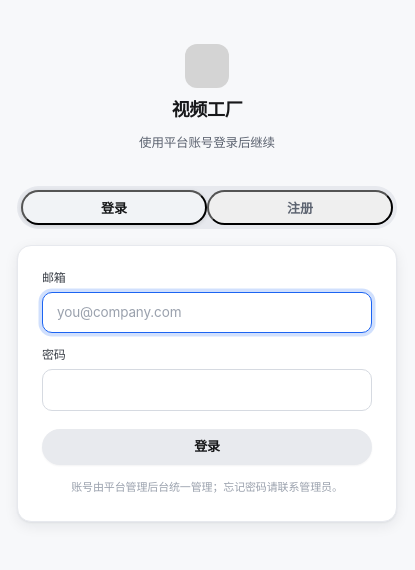
Scenario: LoginRoute › 登录失败展示后端错误信息并停留在登录页
Type "ops@company.com" into the field with placeholder "you@company.com". click: (207, 312)
box: [42, 292, 372, 333]
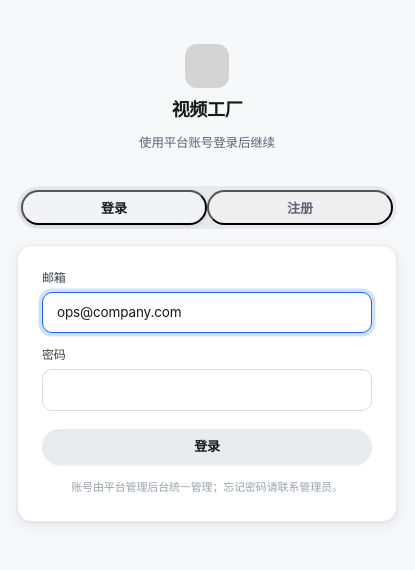
Type "wrong-pass" into the password field labelled "密码". click: (207, 390)
box: [42, 369, 372, 411]
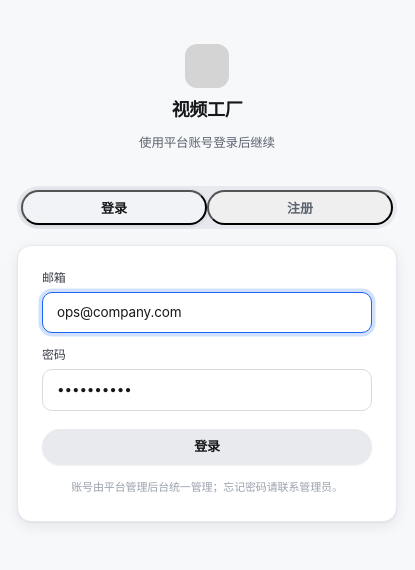
Submit the form, box [17, 245, 397, 522]
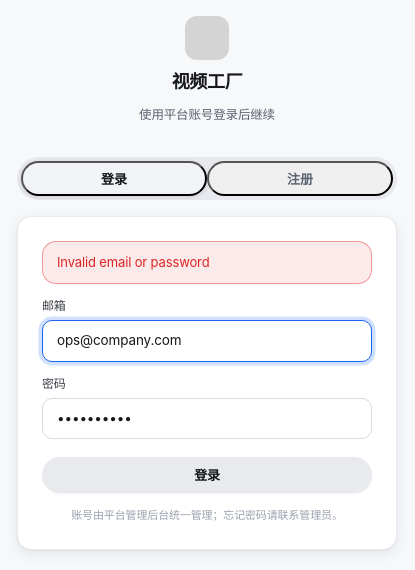
Check: the form is shown, box [17, 216, 397, 550]
Check: the message "Invalid email or password" is shown, box [42, 241, 372, 284]
Check: the message reads "Invalid email or password", box [57, 254, 210, 270]
